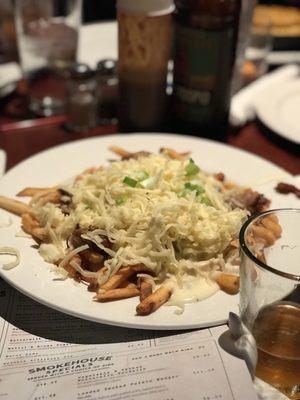pizza: (238, 207, 300, 400), (237, 207, 300, 337), (115, 0, 175, 132)
